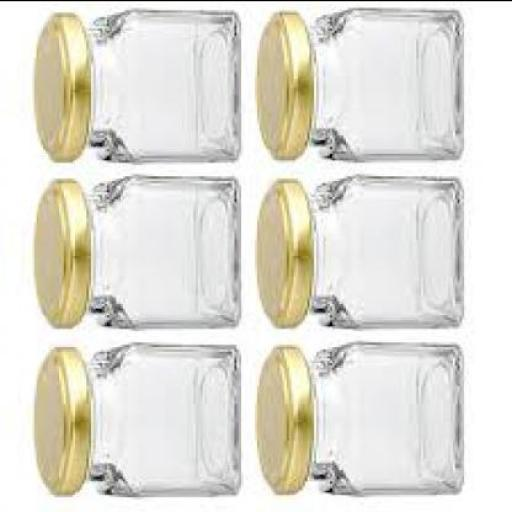glass: (305, 175, 462, 330), (304, 11, 460, 164), (84, 11, 237, 164), (84, 343, 237, 496), (304, 346, 460, 496), (87, 177, 237, 330)
metal: (255, 16, 311, 161), (32, 348, 84, 501), (258, 184, 312, 330), (255, 348, 307, 498), (35, 14, 86, 164), (35, 180, 86, 330)
